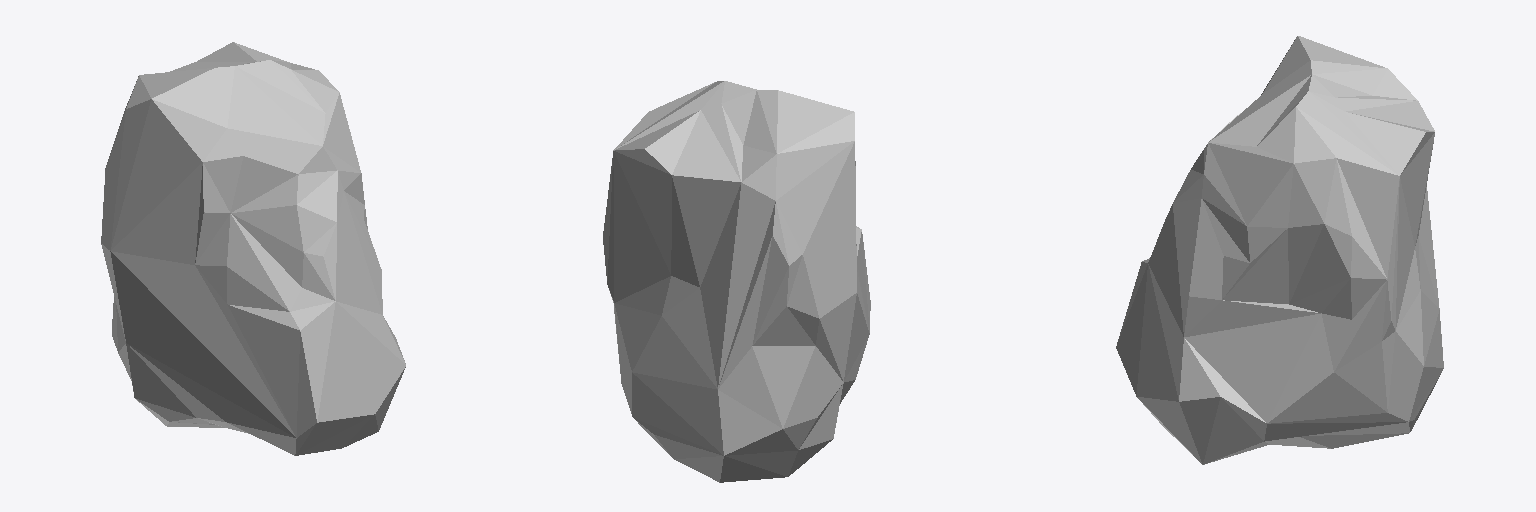
Rendered from uprock 2.obj.
3 renders of one model, left to right at view 1: azimuth 30°, elevation 25°; view 2: azimuth 150°, elevation 25°; view 3: azimuth 270°, elevation 25°, orthographic.
Parts seen in each view (by area): view 1: Cylinder.009; view 2: Cylinder.009; view 3: Cylinder.009.
Part boxes in pixels (bbox=[...]): Cylinder.009: bbox=[101, 42, 405, 455]; Cylinder.009: bbox=[603, 81, 870, 482]; Cylinder.009: bbox=[1116, 36, 1443, 464].
Size of the model in its own units: 8.68 by 12.95 by 10.51.